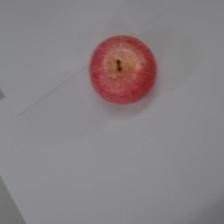red: (84, 30, 160, 110)
